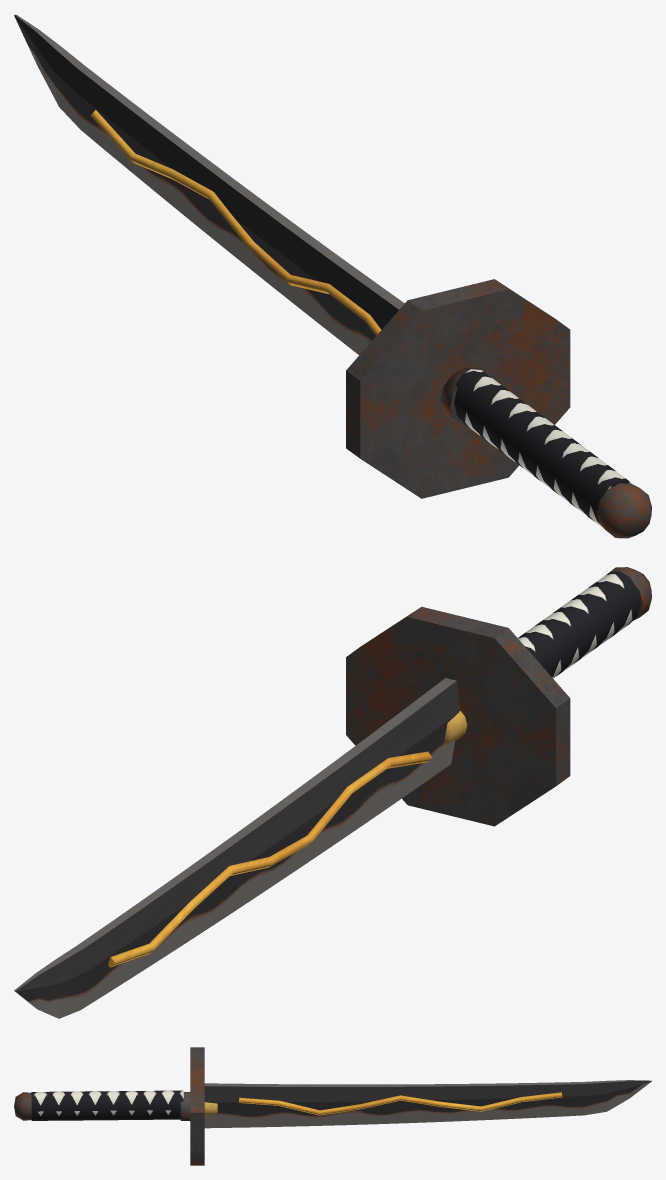
Rendered from HO_Weapon_AshfallSword.fbx.
3 views of the same model, one above another, from view 1: azimuth 30°, elevation 25°; view 2: azimuth 150°, elevation 25°; view 3: azimuth 270°, elevation 25° (orthographic). The views are drawn at different scales.
Visible parts, largest first — view 1: HO_Weapon_AshfallSword__Iron_Wrought, HO_Weapon_AshfallSword__Steel_Dark, HO_Weapon_AshfallSword__Tsuka_Wrap, HO_Weapon_AshfallSword_Glow; view 2: HO_Weapon_AshfallSword__Iron_Wrought, HO_Weapon_AshfallSword__Steel_Dark, HO_Weapon_AshfallSword__Tsuka_Wrap, HO_Weapon_AshfallSword_Glow; view 3: HO_Weapon_AshfallSword__Steel_Dark, HO_Weapon_AshfallSword__Tsuka_Wrap, HO_Weapon_AshfallSword__Iron_Wrought, HO_Weapon_AshfallSword_Glow.
Part boxes in pixels (x1,y1,x2,y2): HO_Weapon_AshfallSword__Iron_Wrought: (346, 279, 651, 538); HO_Weapon_AshfallSword__Steel_Dark: (14, 14, 404, 355); HO_Weapon_AshfallSword__Tsuka_Wrap: (454, 369, 631, 528); HO_Weapon_AshfallSword_Glow: (90, 110, 381, 335); HO_Weapon_AshfallSword__Iron_Wrought: (346, 567, 651, 826); HO_Weapon_AshfallSword__Steel_Dark: (14, 678, 460, 1018); HO_Weapon_AshfallSword__Tsuka_Wrap: (518, 571, 639, 678); HO_Weapon_AshfallSword_Glow: (108, 751, 431, 967); HO_Weapon_AshfallSword__Steel_Dark: (204, 1080, 651, 1128); HO_Weapon_AshfallSword__Tsuka_Wrap: (31, 1090, 183, 1120); HO_Weapon_AshfallSword__Iron_Wrought: (14, 1047, 204, 1165); HO_Weapon_AshfallSword_Glow: (239, 1092, 562, 1115).
Size of the model in its own units: 0.7761 by 0.6652 by 3.98.
